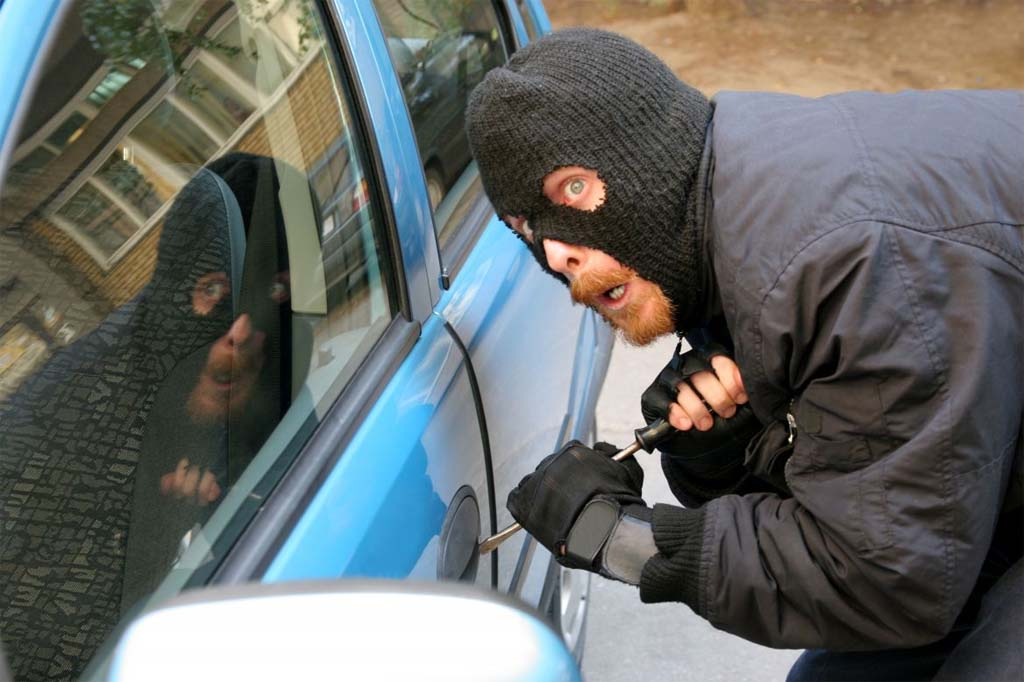thief: (332, 19, 874, 651), (421, 19, 758, 385)
